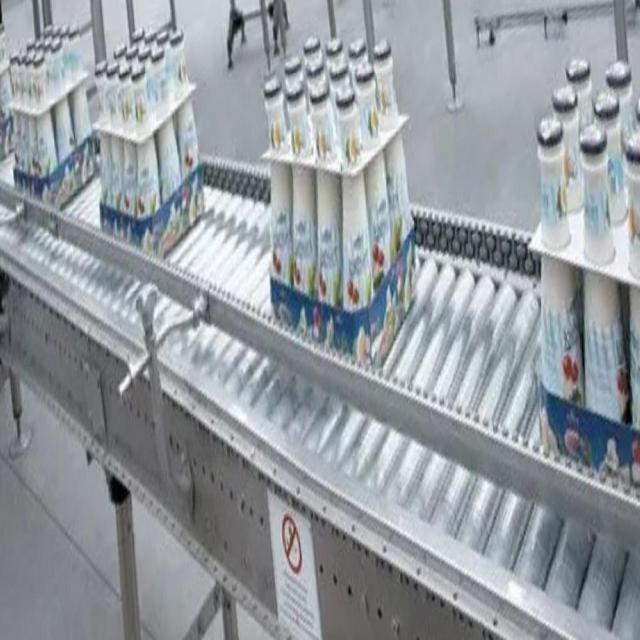bottle: (260, 31, 417, 370), (531, 49, 640, 460), (91, 24, 209, 254)
